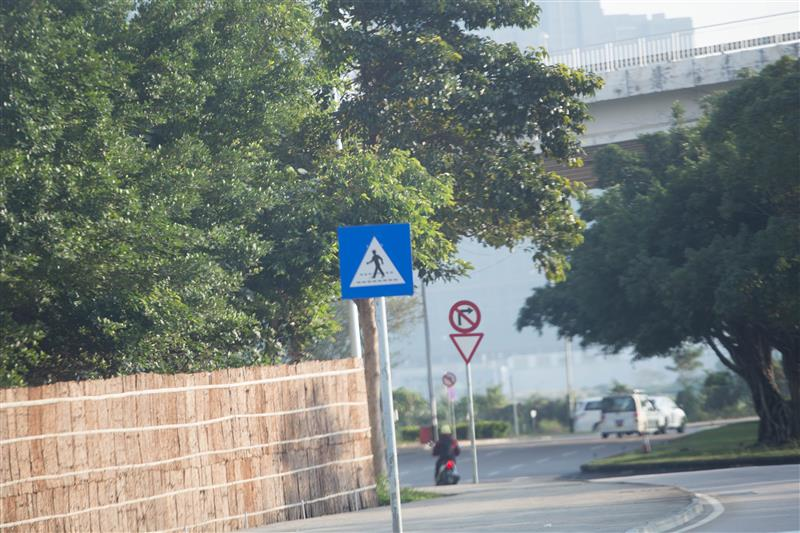noLeftTurn: (442, 371, 456, 387)
noRightTurn: (447, 301, 481, 333)
pedestrianCrossing: (337, 225, 406, 295)
yield: (449, 331, 484, 363)
